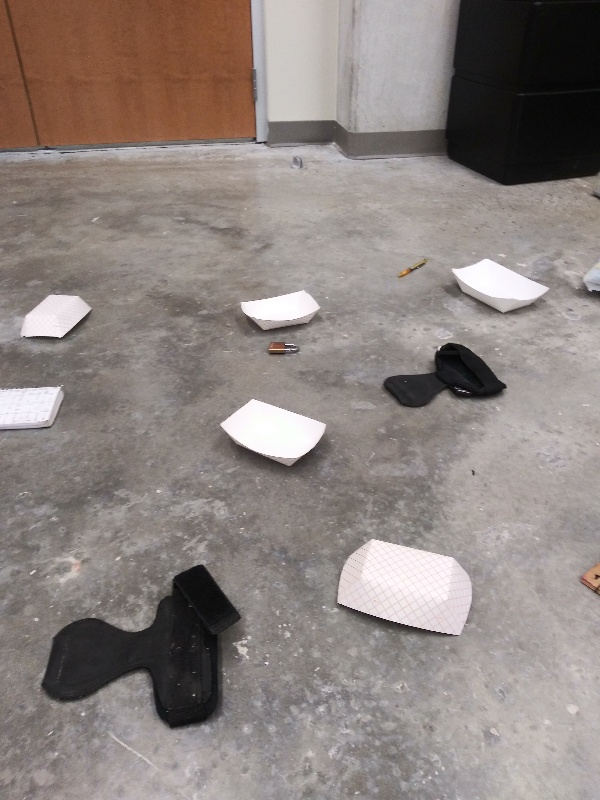plate: (333, 535, 476, 641), (214, 396, 331, 470), (448, 255, 554, 317), (233, 288, 325, 335), (17, 290, 94, 344)
